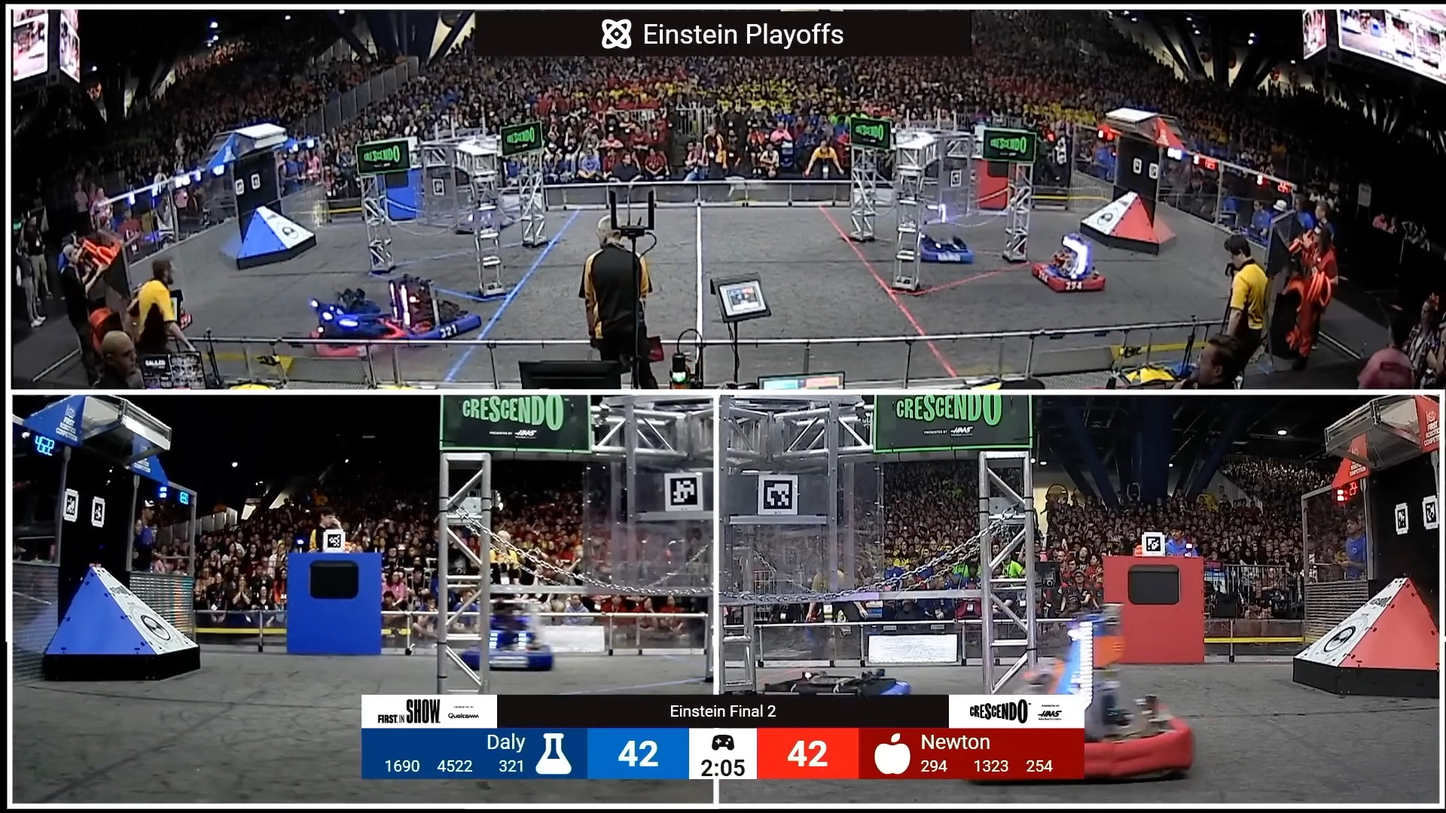bumpers: (929, 703, 1199, 784), (304, 299, 406, 361), (390, 308, 500, 351), (456, 639, 560, 679), (1027, 260, 1111, 298), (903, 238, 979, 271)
